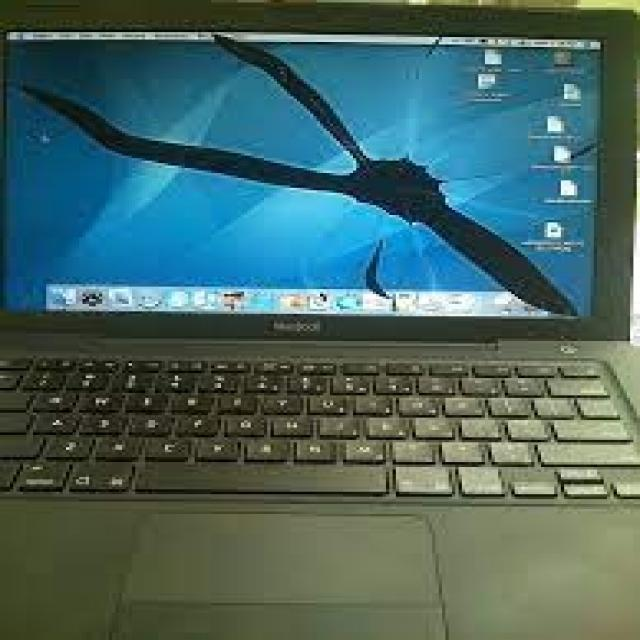Screen cracks: (6, 30, 594, 322)
